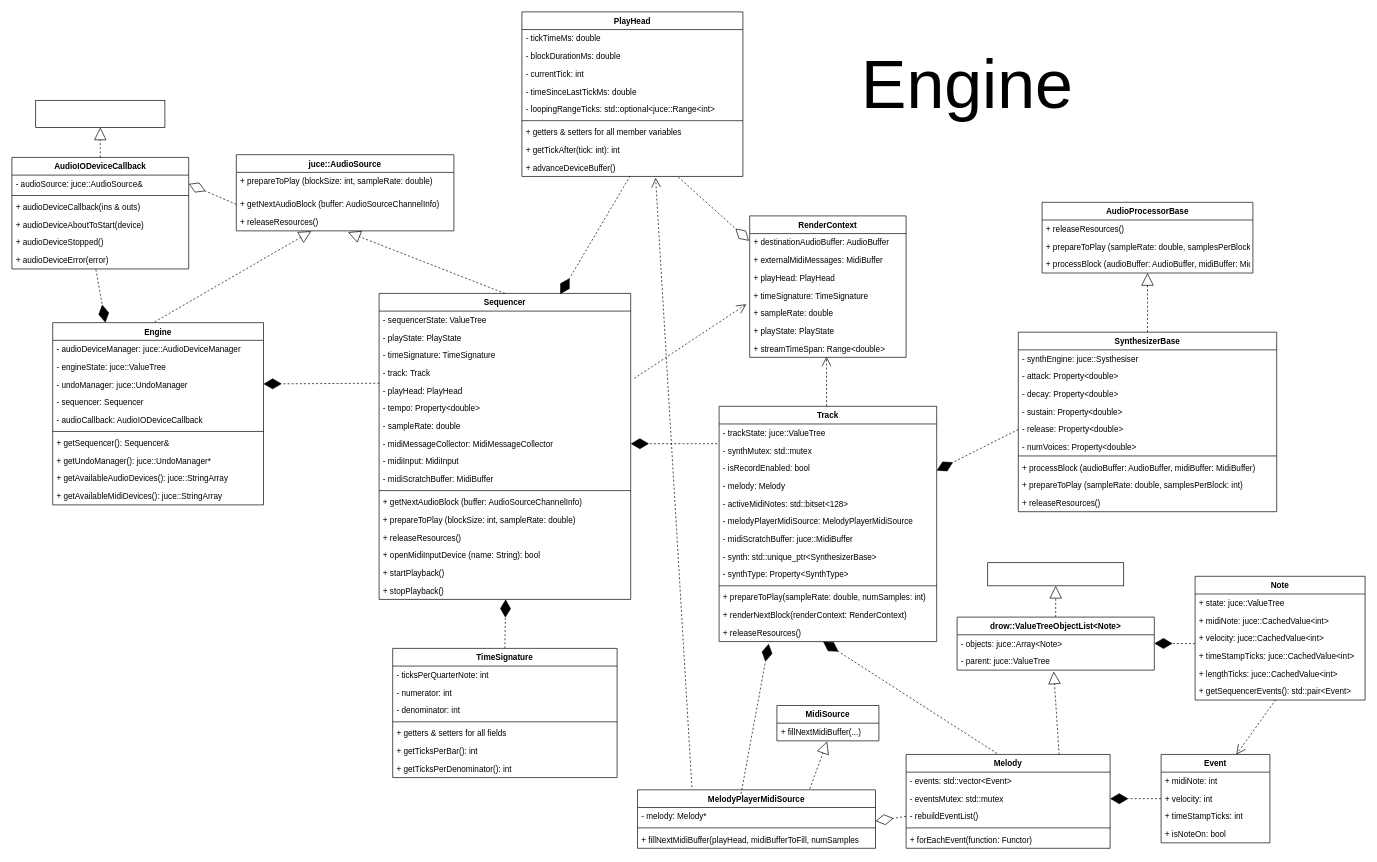
Some shapes in this 1377 by 862 pixel diagram are drawn without their labels. Each missing label, with the centre of its shape:
"juce::AudioIODeviceCallback" belongs at (x=100, y=114).
"juce::ValueTree::Listener" belongs at (x=1055, y=574).
